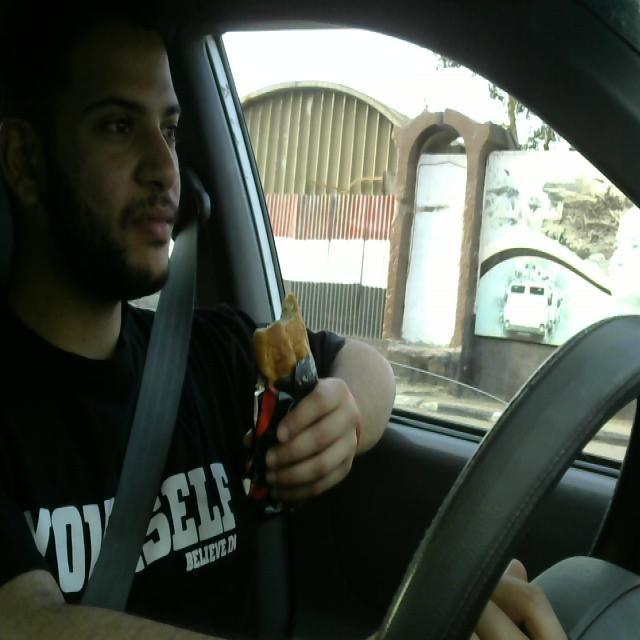eating: (245, 298, 326, 524)
